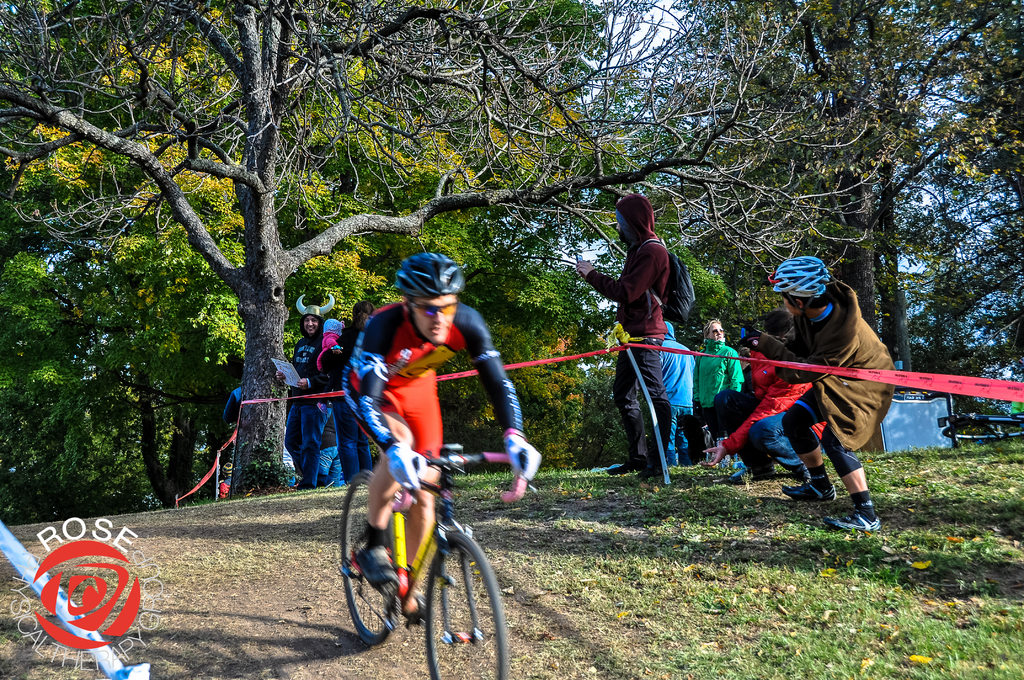Bike_toward: (286, 387, 557, 680)
